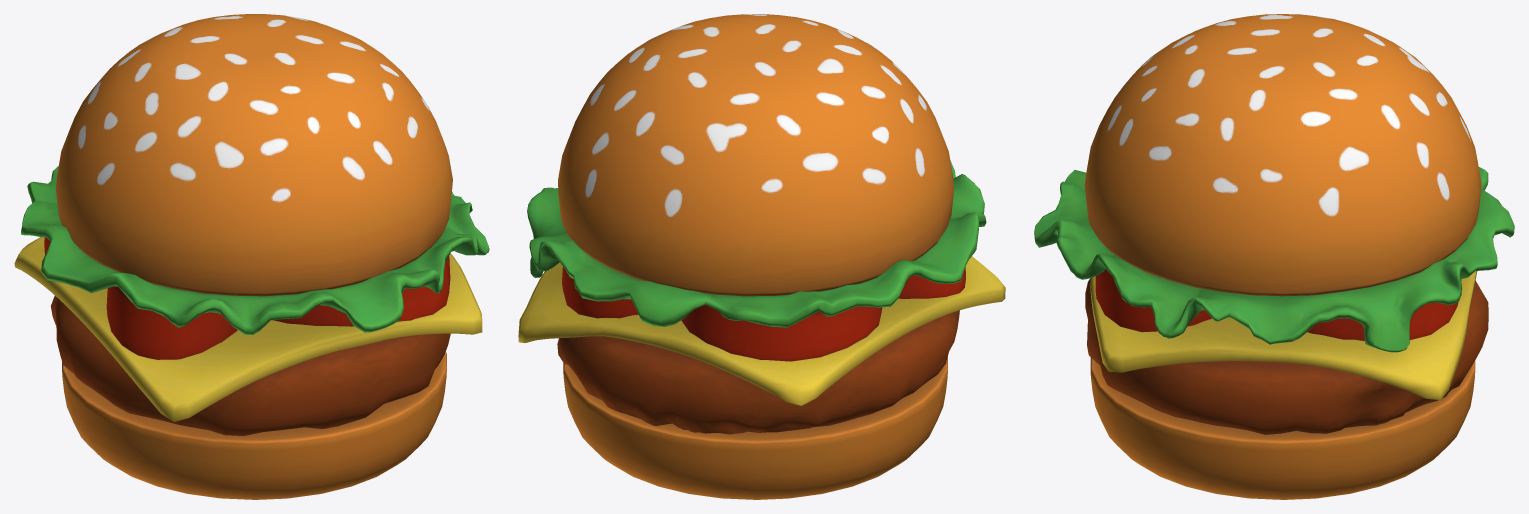
File: burger.fbx
3 renders of one model, left to right at view 1: azimuth 30°, elevation 25°; view 2: azimuth 150°, elevation 25°; view 3: azimuth 270°, elevation 25°, orthographic.
Parts seen in each view (by area): view 1: node_id5; view 2: node_id5; view 3: node_id5.
Part boxes in pixels (x1,y1,x2,y2): node_id5: [14, 14, 489, 499]; node_id5: [518, 14, 1005, 499]; node_id5: [1034, 14, 1514, 499].
Bounding box in the file's own units: 0.512 × 0.4807 × 0.5223.
Materials: 1 (1 with a texture image).
